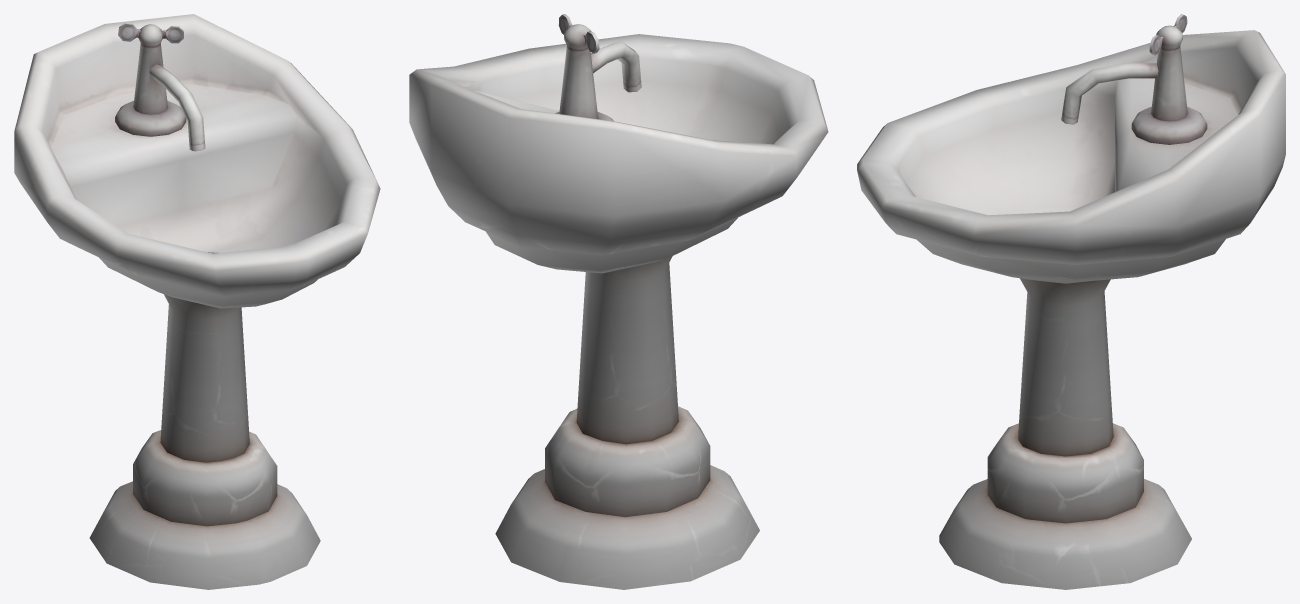
File: BathSink01.FBX
The picture shows the model from 3 angles, left to right: view 1: azimuth 30°, elevation 25°; view 2: azimuth 150°, elevation 25°; view 3: azimuth 270°, elevation 25°; orthographic projection. The views are drawn at different scales.
Parts seen in each view (by area): view 1: BathSink01; view 2: BathSink01; view 3: BathSink01.
Boxes of the visible parts, <box> form: BathSink01: <box>14,14,380,589</box>; BathSink01: <box>409,14,828,589</box>; BathSink01: <box>857,14,1285,589</box>.
Size of what is drawn, in the model's own units: 0.7395 by 1.12 by 0.8477.
